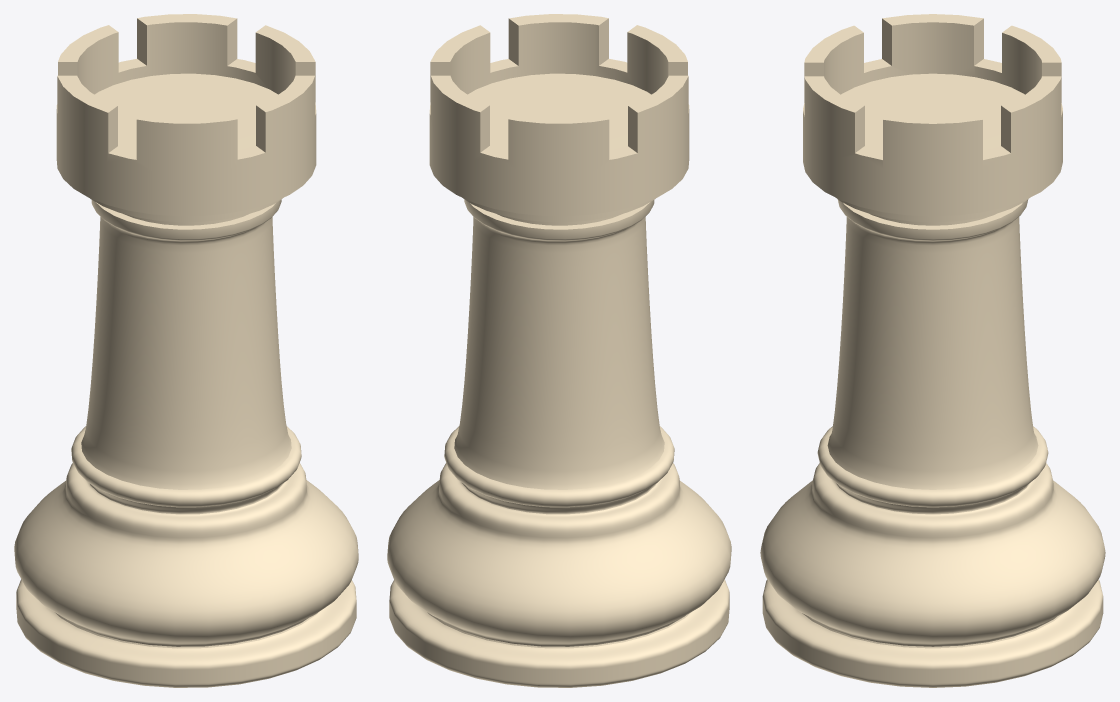
File: Rook.fbx
3 renders of one model, left to right at view 1: azimuth 30°, elevation 25°; view 2: azimuth 150°, elevation 25°; view 3: azimuth 270°, elevation 25°, orthographic.
Parts seen in each view (by area): view 1: Rook; view 2: Rook; view 3: Rook.
Part boxes in pixels (bbox=[...]): Rook: bbox=[14, 14, 358, 687]; Rook: bbox=[387, 14, 731, 687]; Rook: bbox=[760, 14, 1105, 687].
Size of the model in its own units: 55.37 by 98.44 by 55.37.
